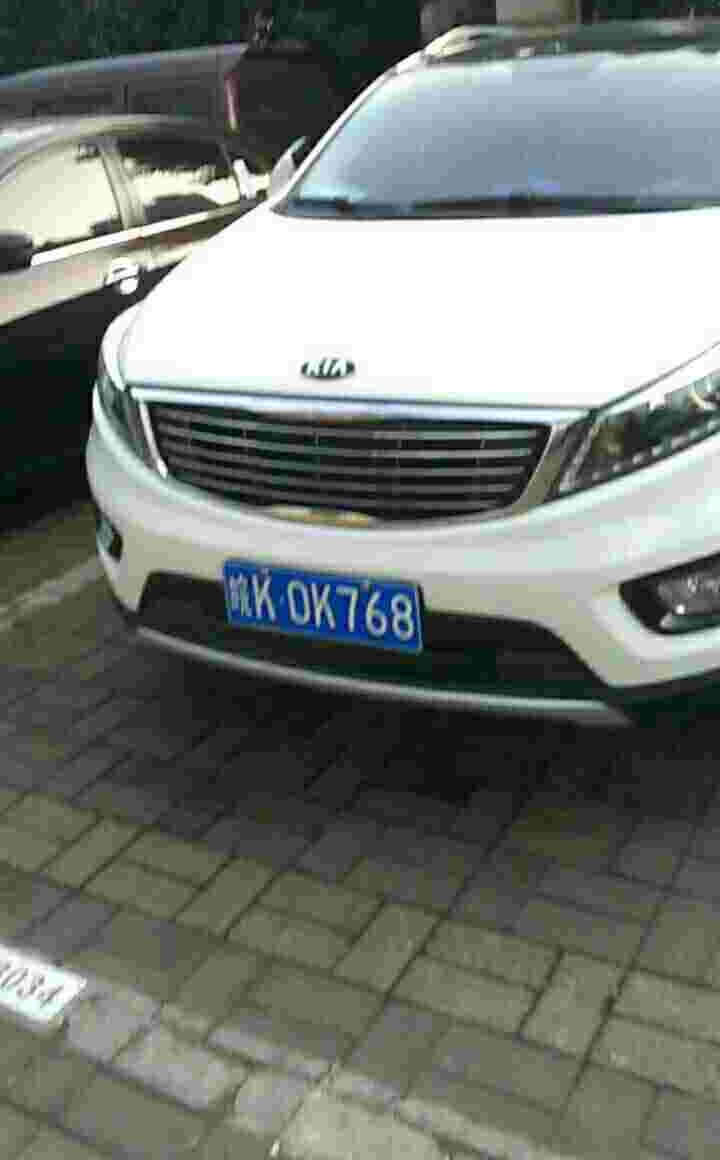plate: (220, 555, 425, 655)
